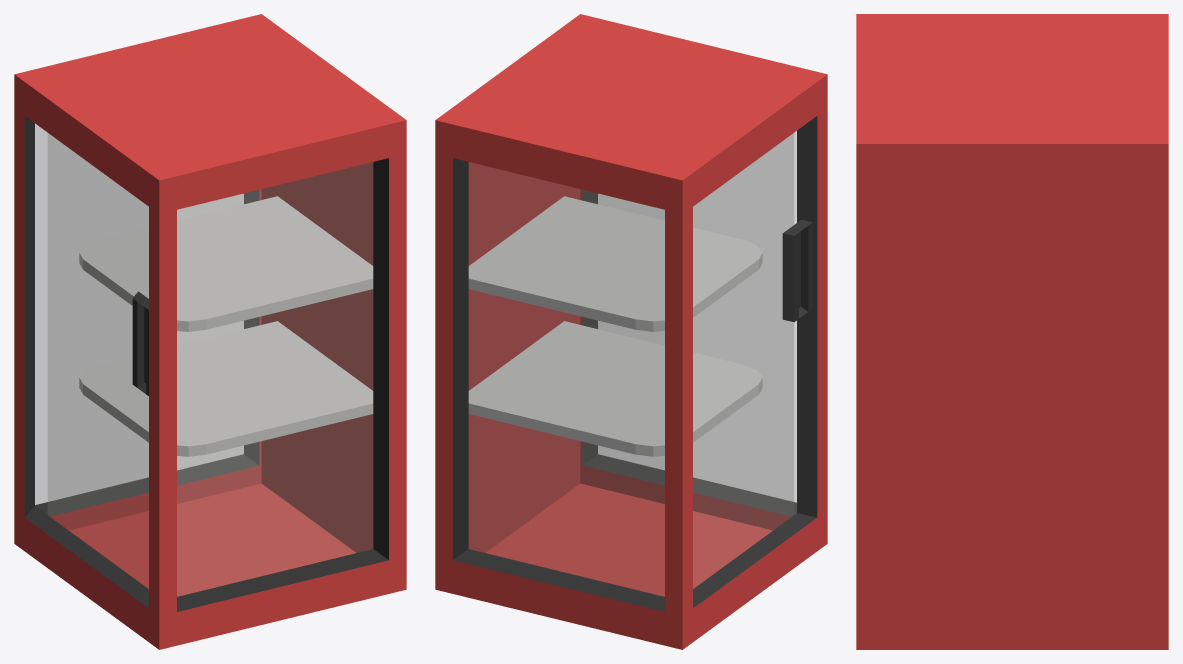
The model's file is Escenario_refrigerador.fbx.
3 views of the same model, side by side, from view 1: azimuth 30°, elevation 25°; view 2: azimuth 150°, elevation 25°; view 3: azimuth 270°, elevation 25° (orthographic). The views are drawn at different scales.
Visible parts, largest first — view 1: REFRI, CRISTAL, estante02, estante02.001; view 2: REFRI, CRISTAL, estante02, estante02.001; view 3: REFRI.
Boxes of the visible parts, box(x1,y1,x2,y2) form: REFRI: box(14, 14, 406, 649); CRISTAL: box(35, 124, 372, 596); estante02: box(79, 196, 373, 331); estante02.001: box(79, 321, 373, 456); REFRI: box(435, 14, 827, 649); CRISTAL: box(469, 131, 796, 596); estante02: box(468, 196, 762, 331); estante02.001: box(468, 321, 762, 456); REFRI: box(856, 14, 1168, 649).
Size of the model in its own units: 257 by 467 by 261.
